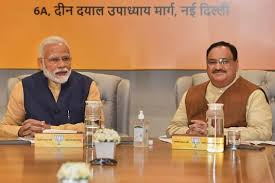Caution: (1, 36, 269, 156)
